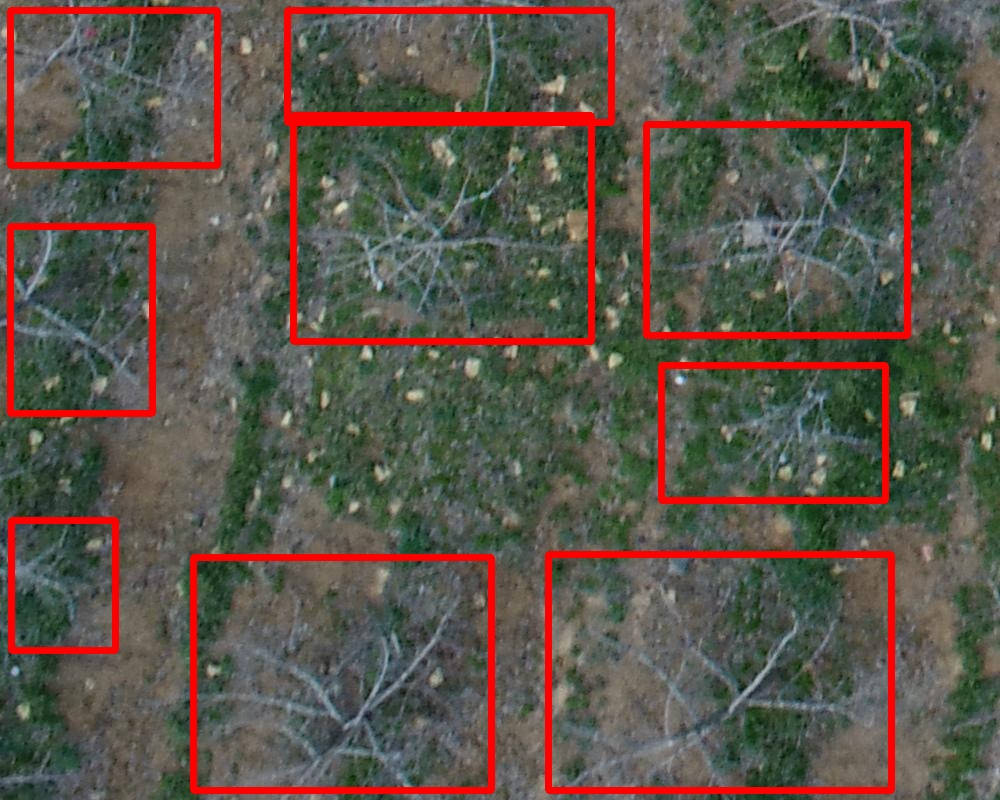apple: (548, 554, 891, 790), (193, 557, 491, 790), (293, 115, 591, 341), (646, 124, 907, 335), (287, 10, 611, 122), (10, 10, 217, 165), (661, 365, 885, 500), (10, 226, 152, 413), (11, 520, 115, 650)
